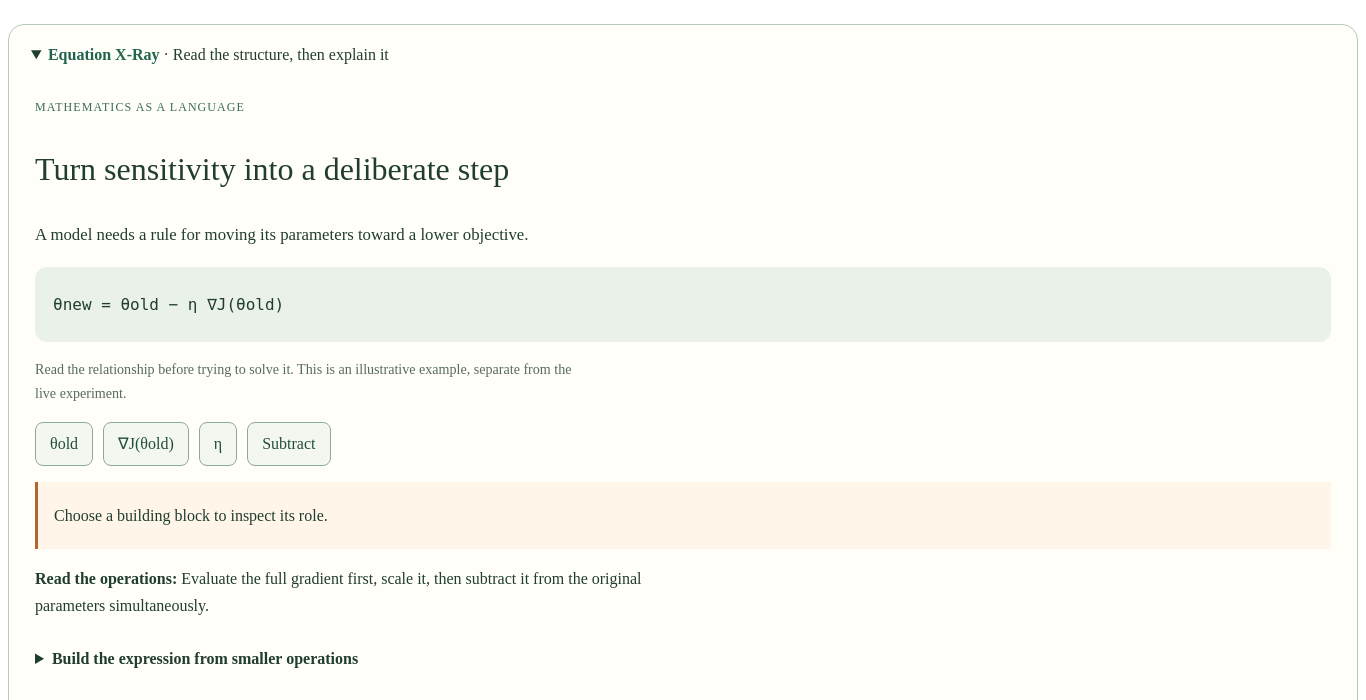
Test case: Equation literacy without new evidence or grading › explains skipped dependencies, reconstructs a relationship, and resets the construction
The width and height of the screenshot is (1366, 700).
Click the heading "Build the expression from smaller operations" at (205, 659), box [52,650,358,667]
(page scrolled)
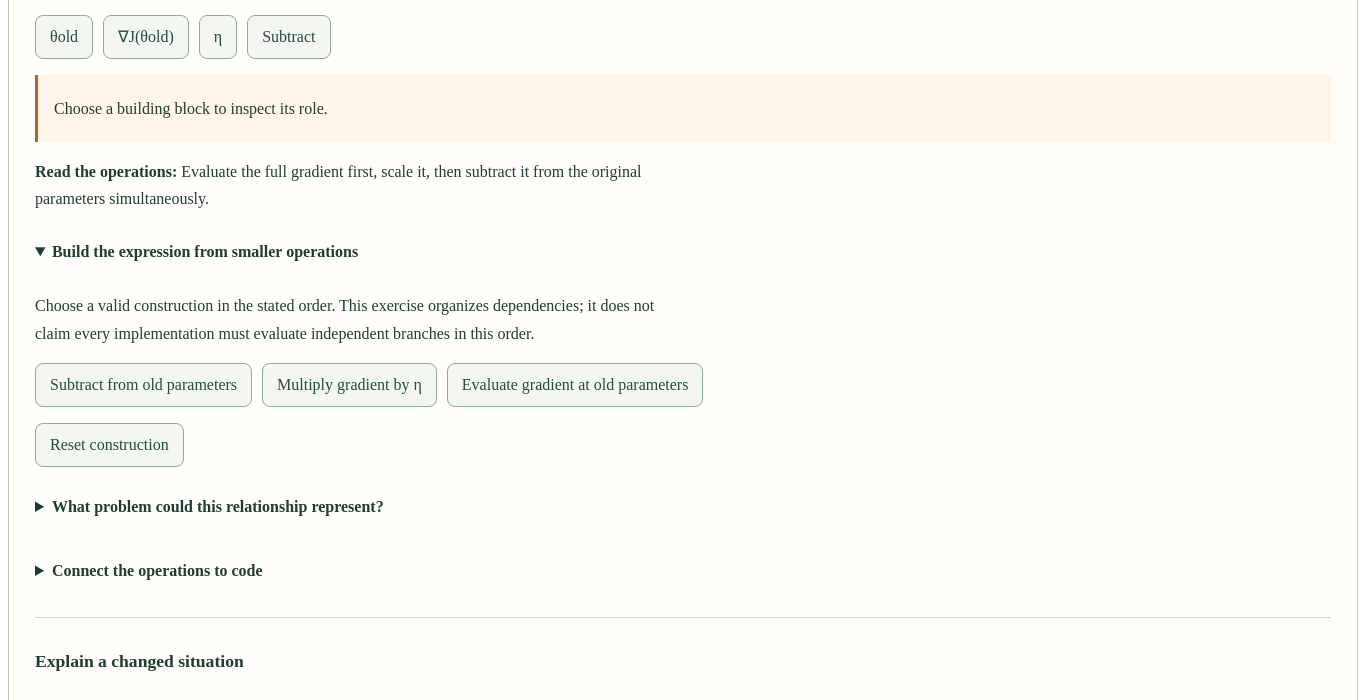
Click the button "Subtract from old parameters" at (144, 385), box [35,363,252,407]
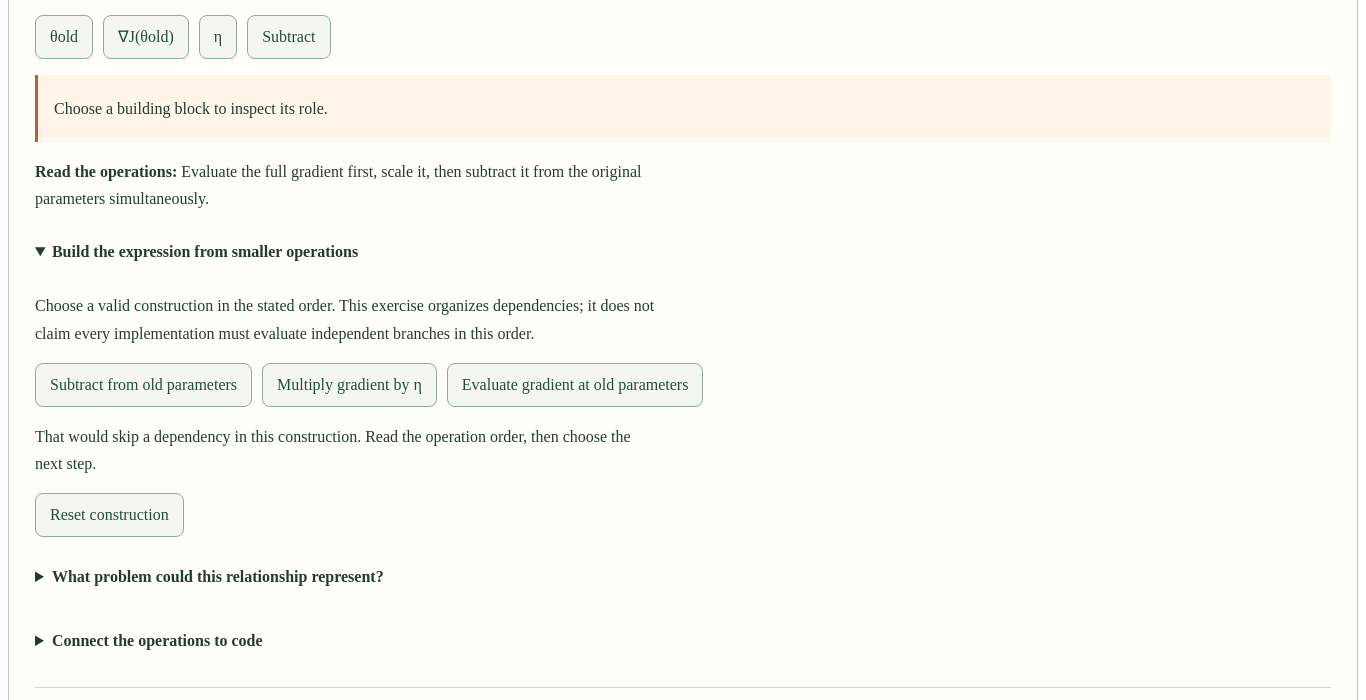
Result: the text "skip a dependency" is shown at [35,428,631,472]
Click the button "Evaluate gradient at old parameters" at (575, 385), box [447,363,703,407]
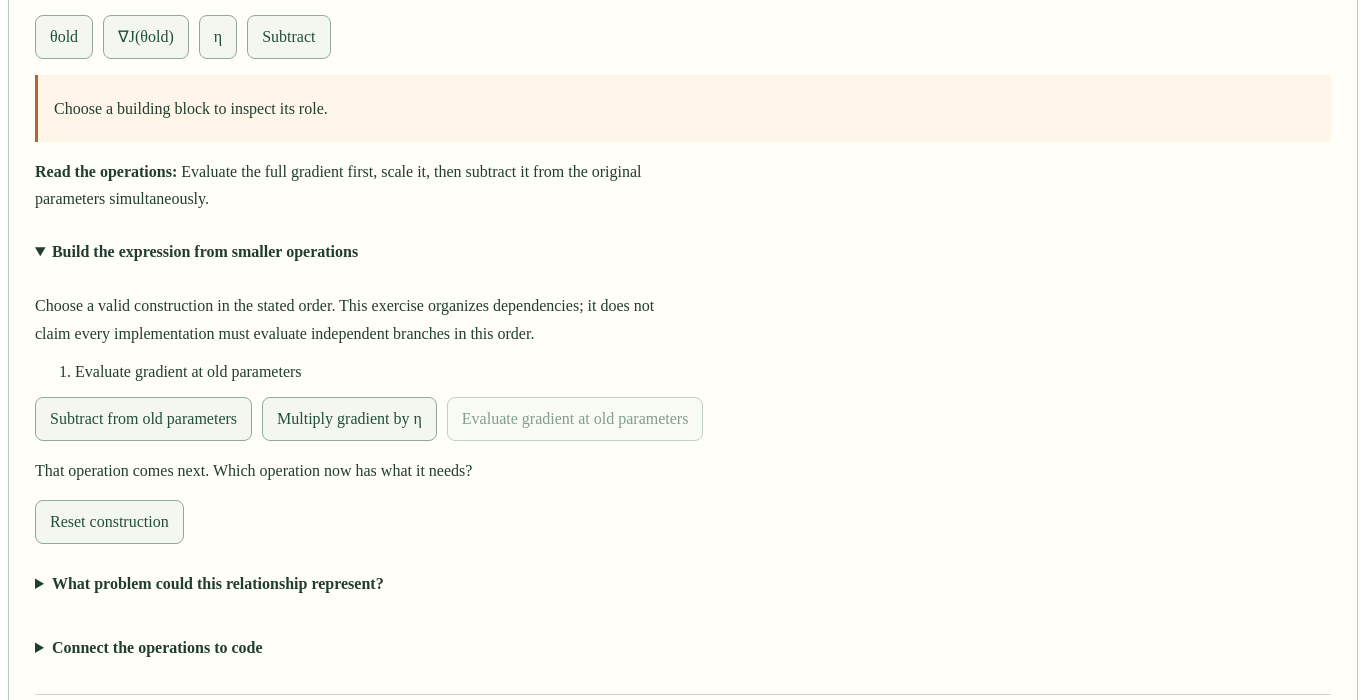
Click the button "Multiply gradient by η" at (349, 419), box [262,397,437,441]
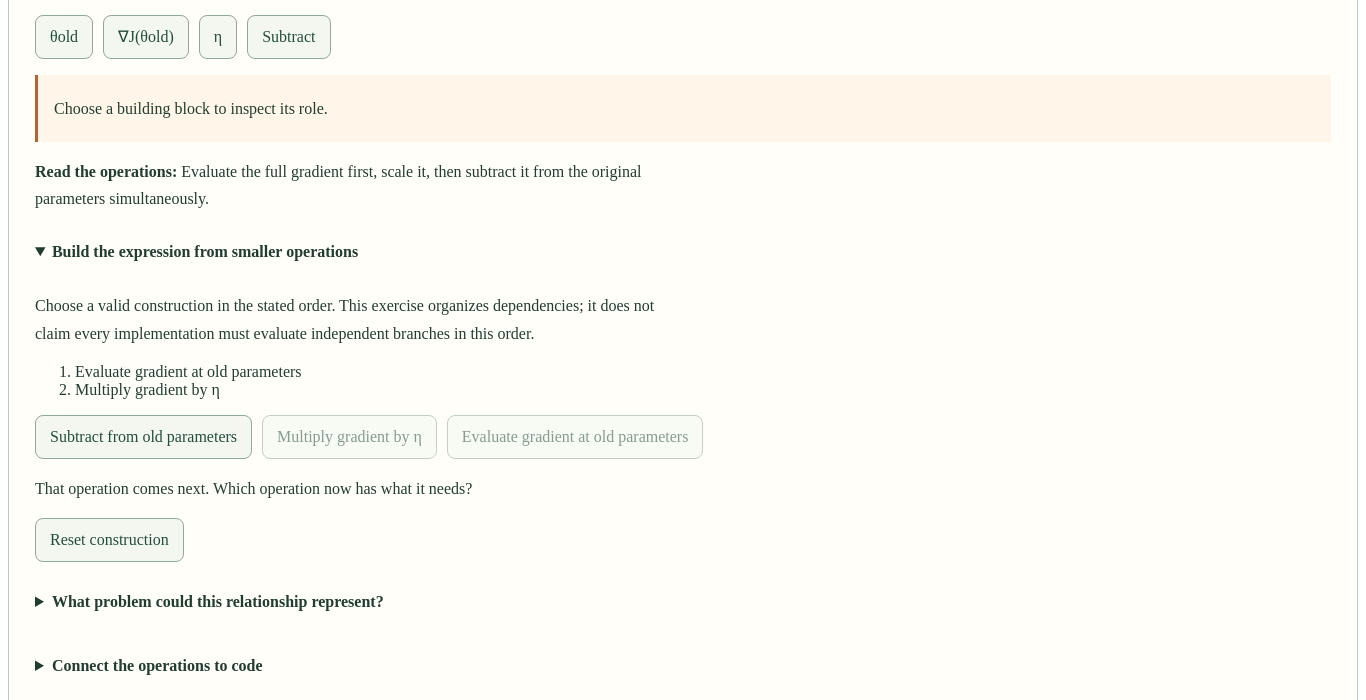
Click the button "Subtract from old parameters" at (144, 437), box [35,415,252,459]
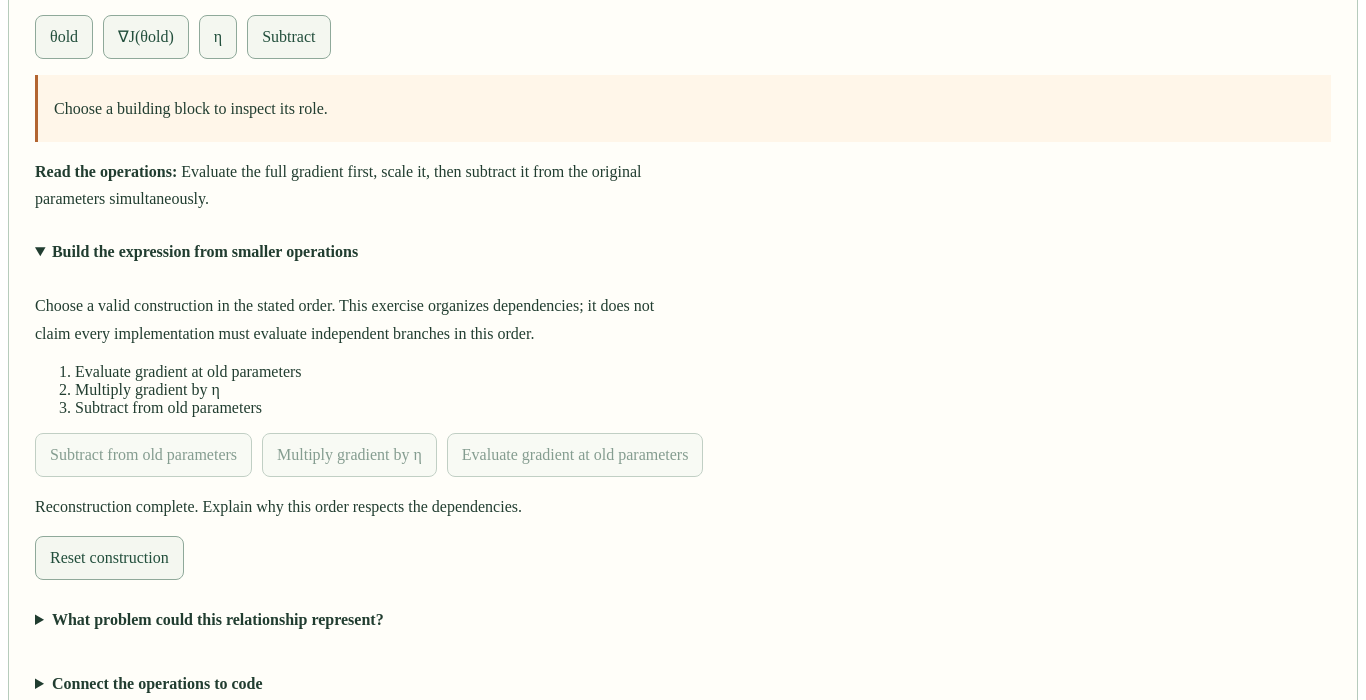
Result: the text "Reconstruction complete. Explain why this order respects the dependencies." is shown at [35,498,522,515]
Click the button "Reset construction" at (109, 558), box [35,536,184,580]
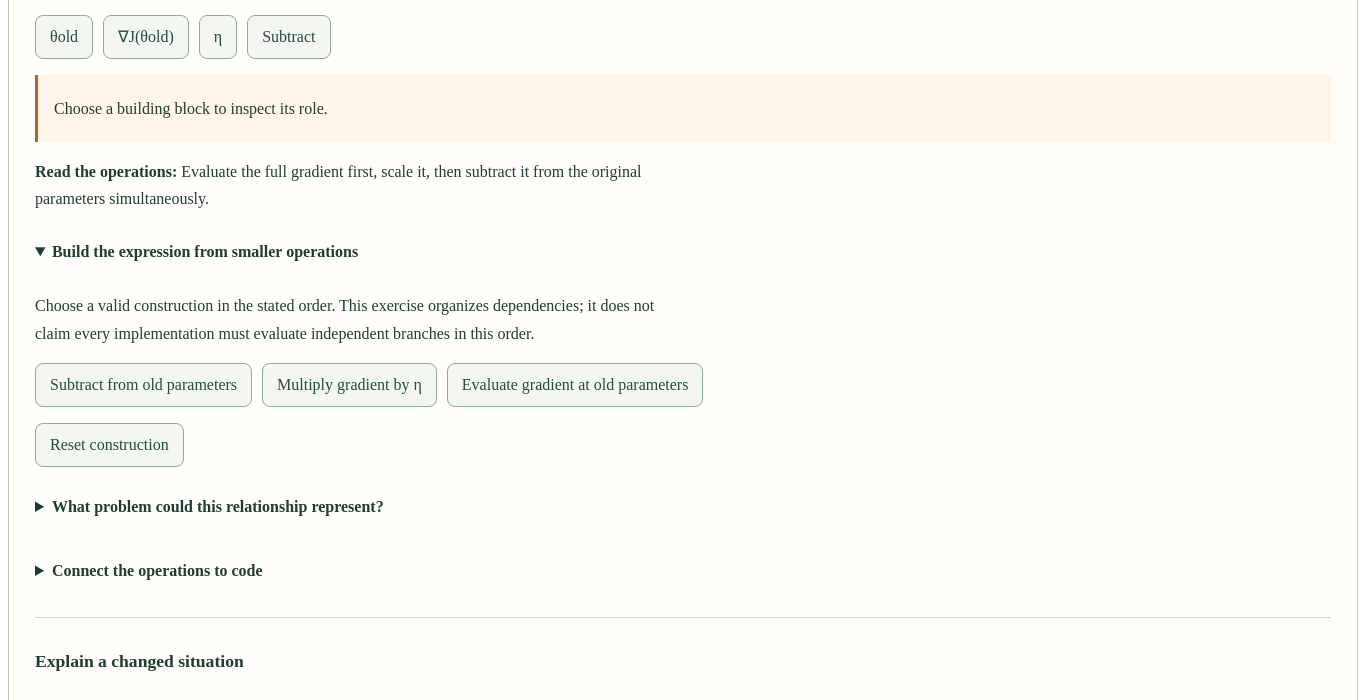
Result: the button "Evaluate gradient at old parameters" is enabled at [447,363,703,407]
